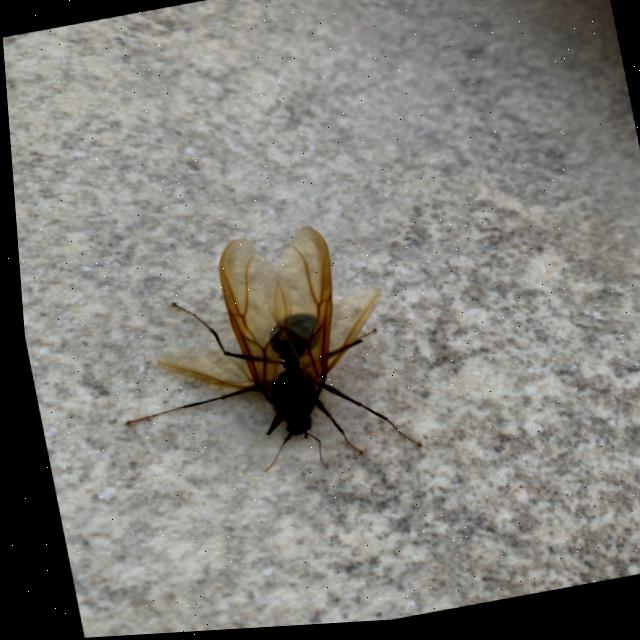Dead-Male-Alate: (85, 216, 417, 508)
